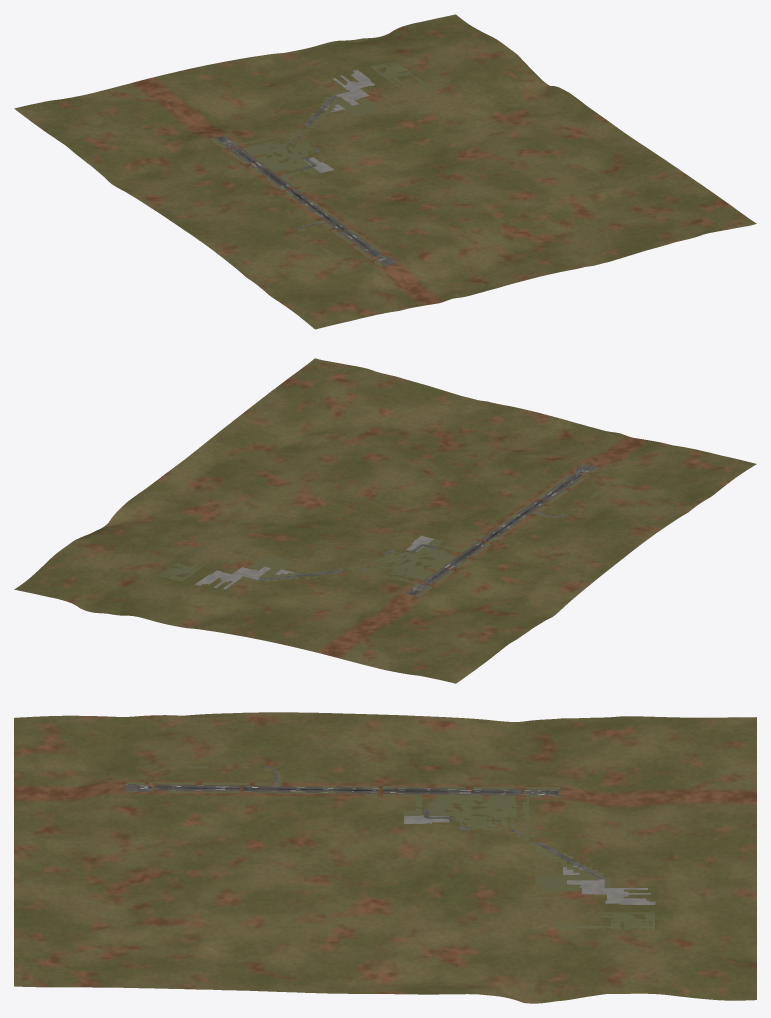
Rendered from sdsc_placa_campo.glb.
3 renders of one model, top to bottom at view 1: azimuth 30°, elevation 25°; view 2: azimuth 150°, elevation 25°; view 3: azimuth 270°, elevation 25°, orthographic. The views are drawn at different scales.
Parts seen in each view (by area): view 1: sdsc_placa_campo; view 2: sdsc_placa_campo; view 3: sdsc_placa_campo.
Part boxes in pixels (x1,y1,x2,y2): sdsc_placa_campo: [14, 14, 756, 329]; sdsc_placa_campo: [14, 358, 756, 683]; sdsc_placa_campo: [14, 712, 756, 1003].
Bounding box in the file's own units: 2500 × 115 × 2950.
Materials: 8 (6 with a texture image).
